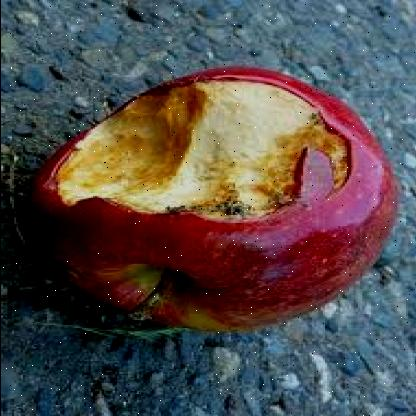damaged_apple: (28, 61, 392, 334)
